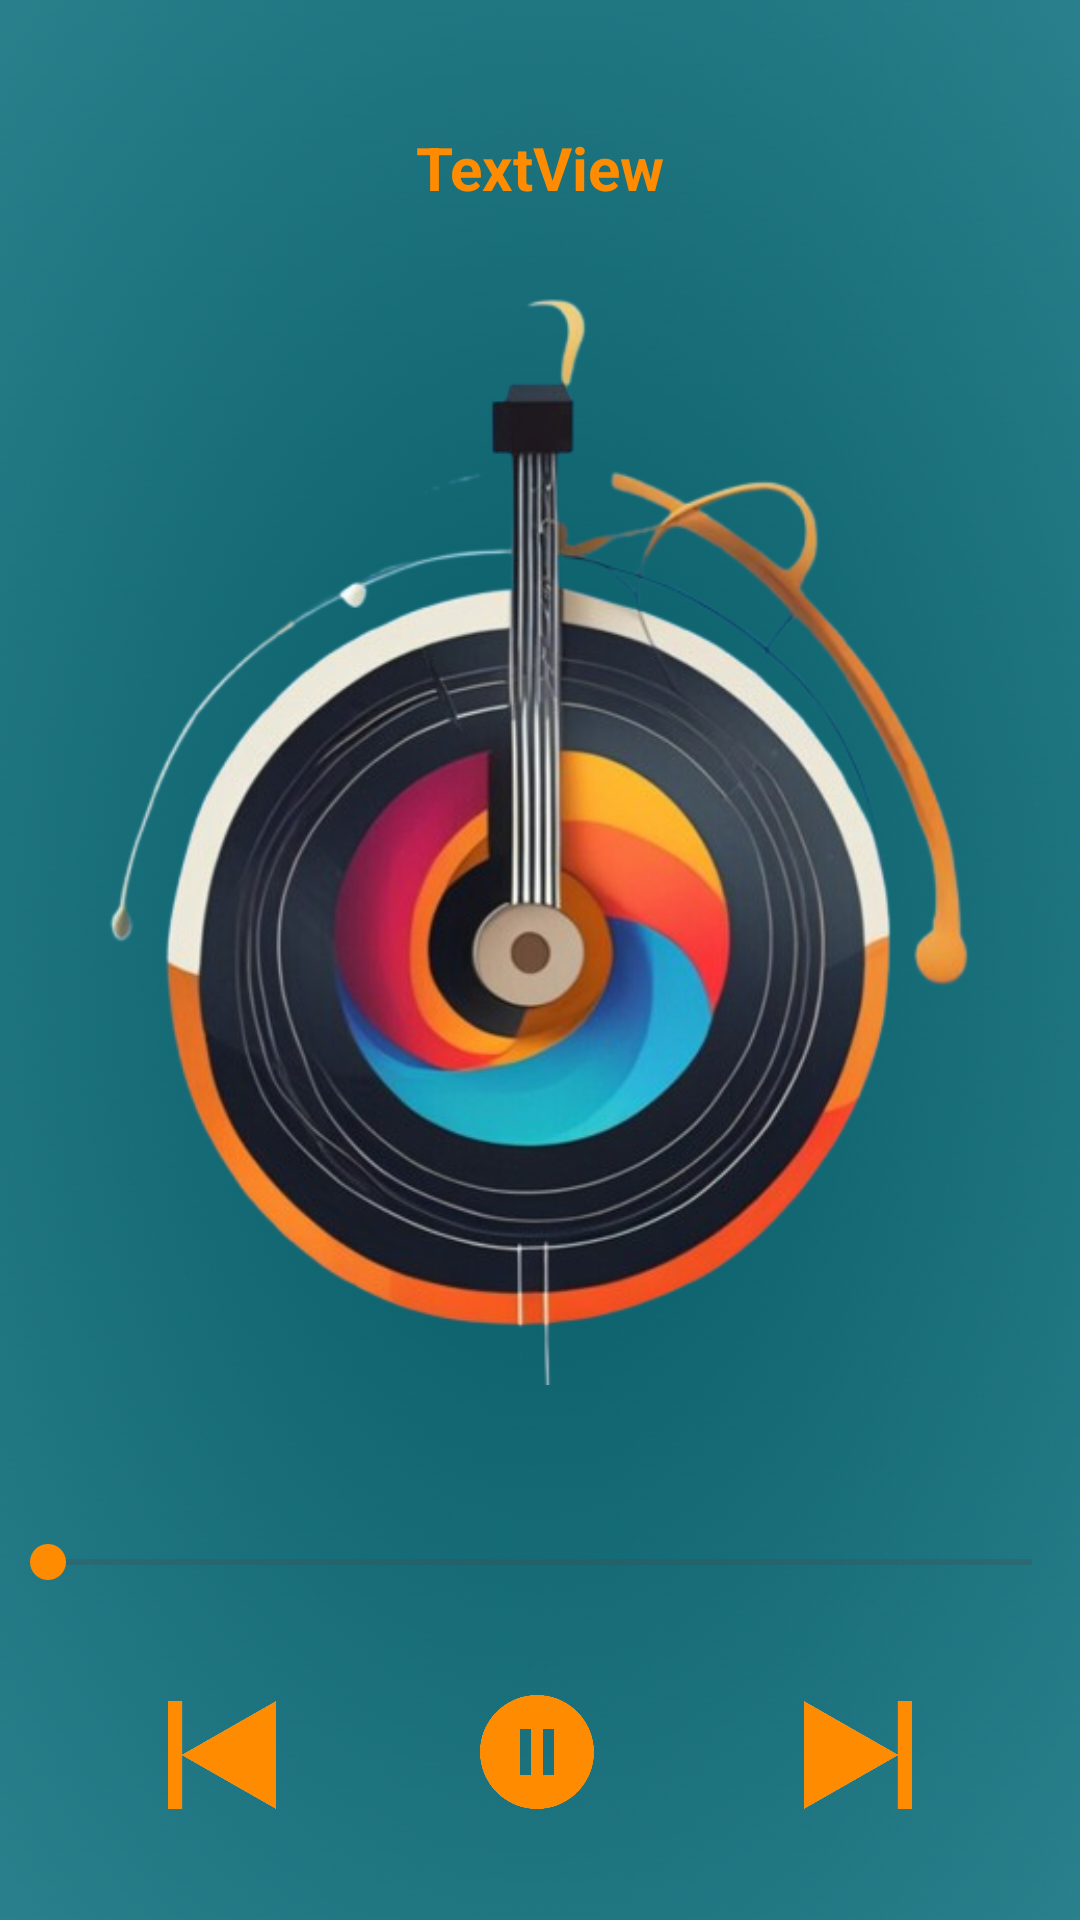

Named icons in this screenshot (1080*1920) and their bounding boxes, detection(x1, y1, x2, y2):
next: detection(804, 1701, 912, 1809)
pause: detection(480, 1695, 594, 1809)
previous: detection(168, 1701, 276, 1809)
